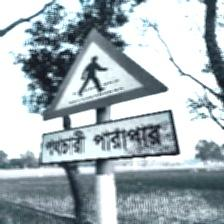Pedestrian-crossing: (38, 26, 178, 165)
